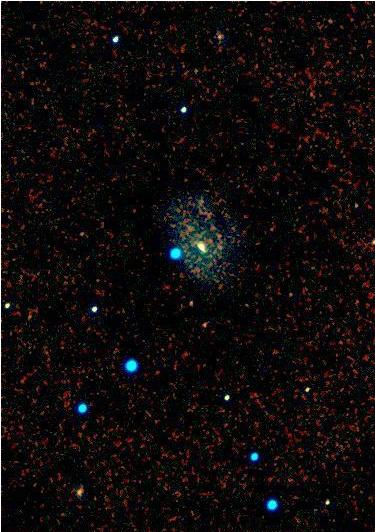star: (186, 314, 216, 344)
